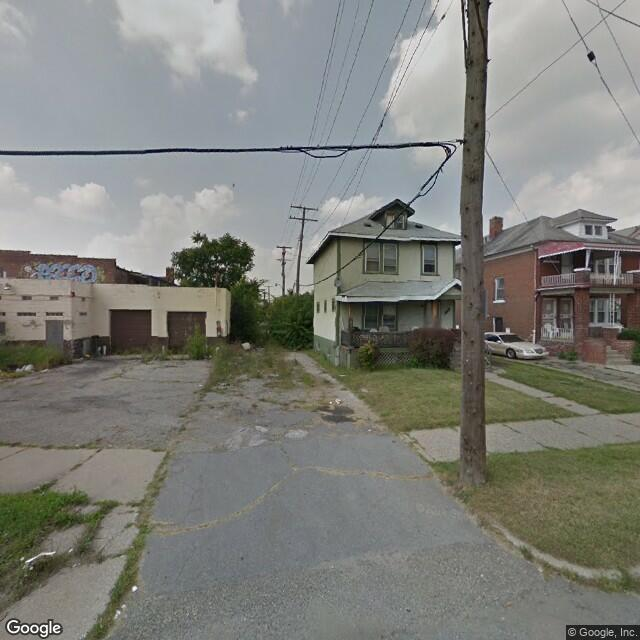litter: (23, 551, 56, 562), (113, 604, 131, 621), (331, 397, 346, 408), (131, 587, 140, 592)
